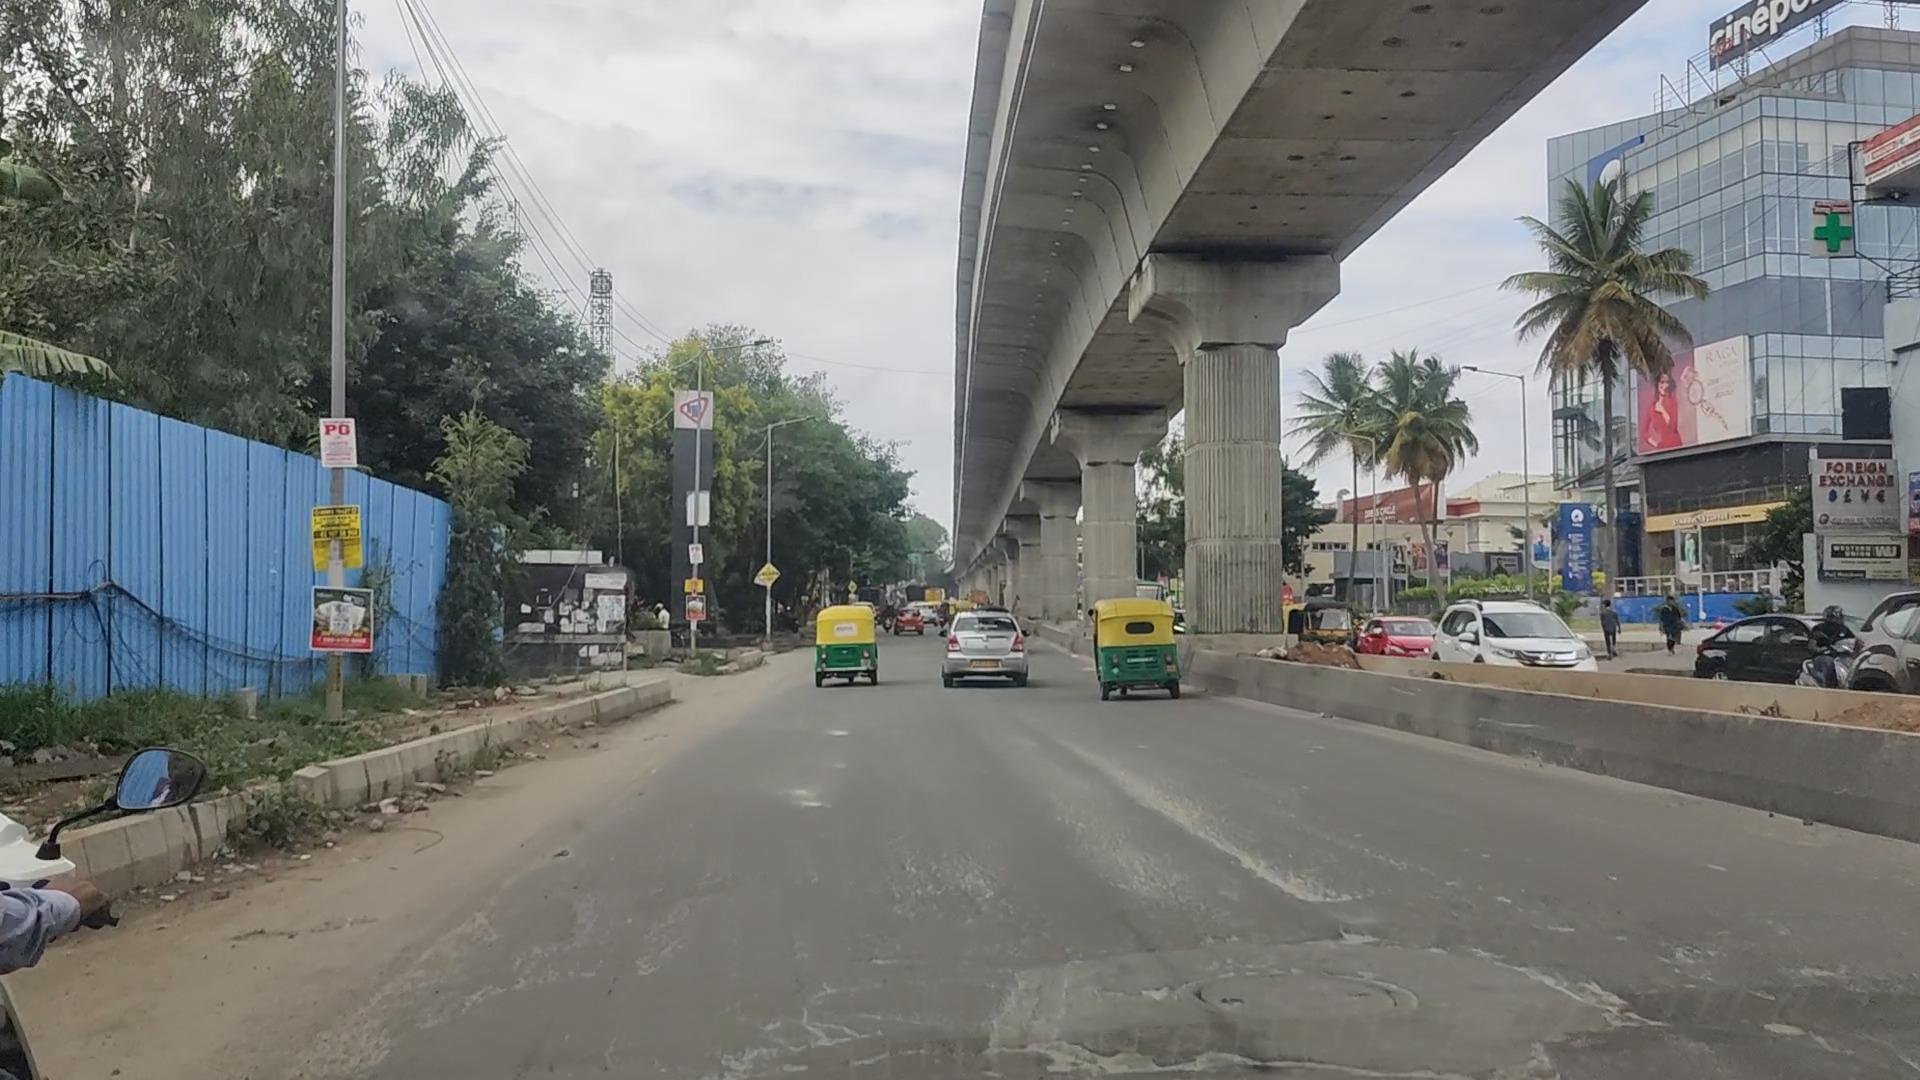LMV: (1092, 603, 1175, 711), (942, 609, 1026, 691), (814, 605, 880, 688)
RoadDamages: (1006, 903, 1672, 1080)
